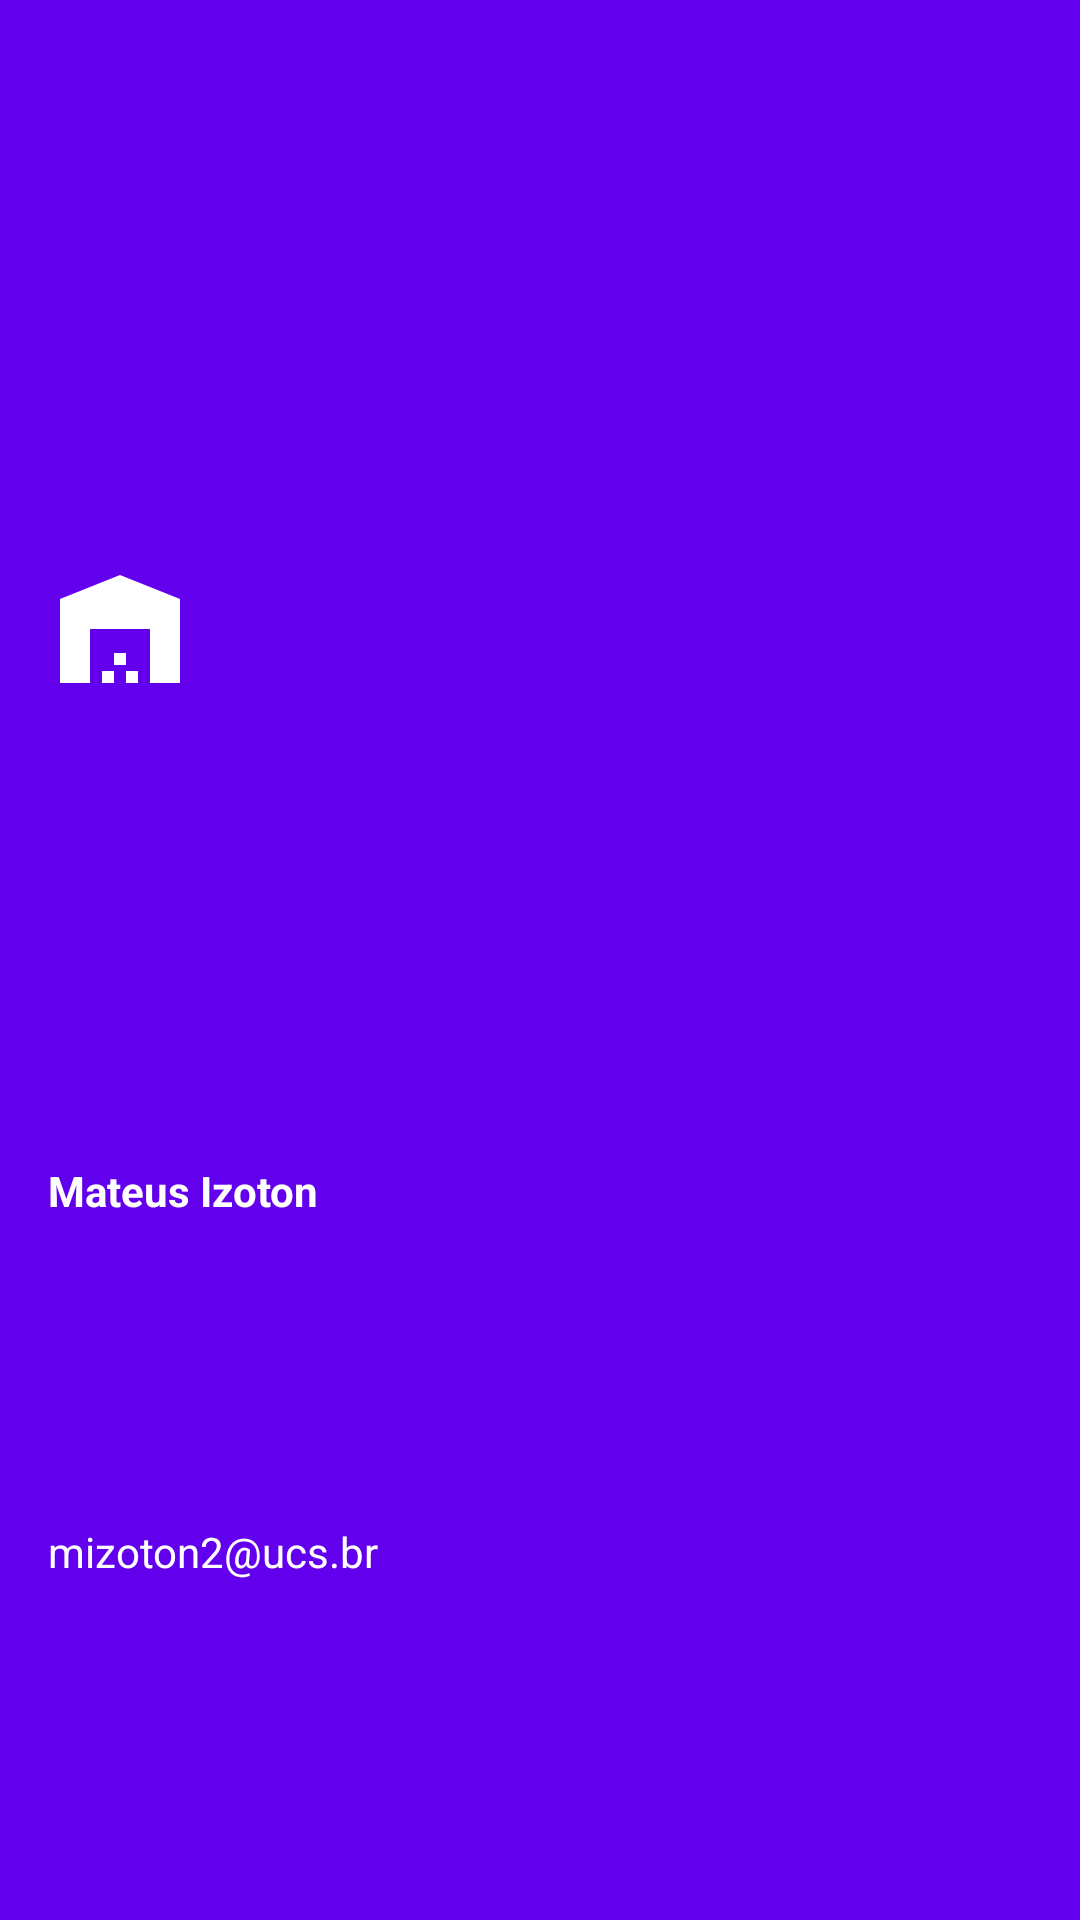

Icon bounding boxes for this 1080w x 1920h phone screenshot, format bbox=(x1, y1, x2, y2):
warehouse: bbox=(60, 575, 180, 683)
